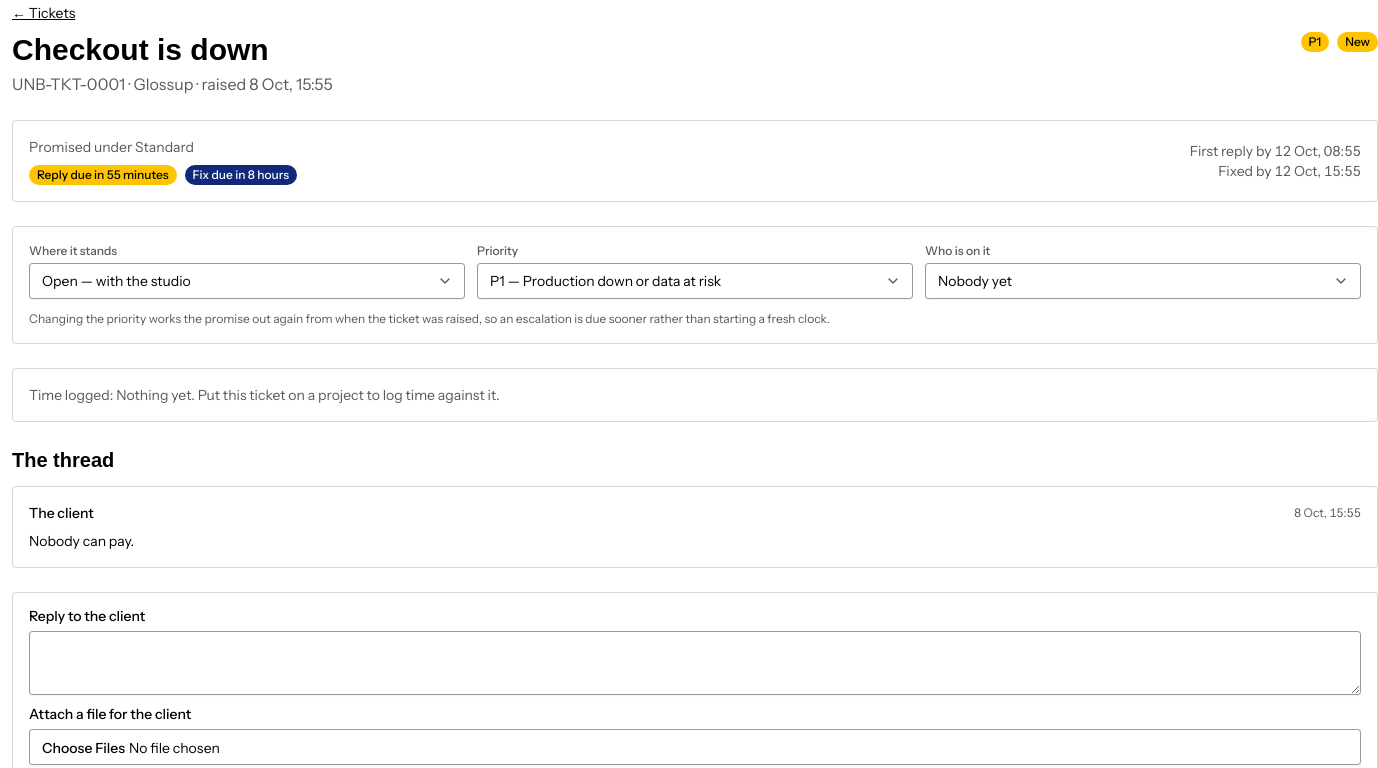
one ticket › shows the server’s reason when a change is refused
Select "Resolved" in the dropdown labelled "Where it stands": (247, 281) [29,263,465,299]
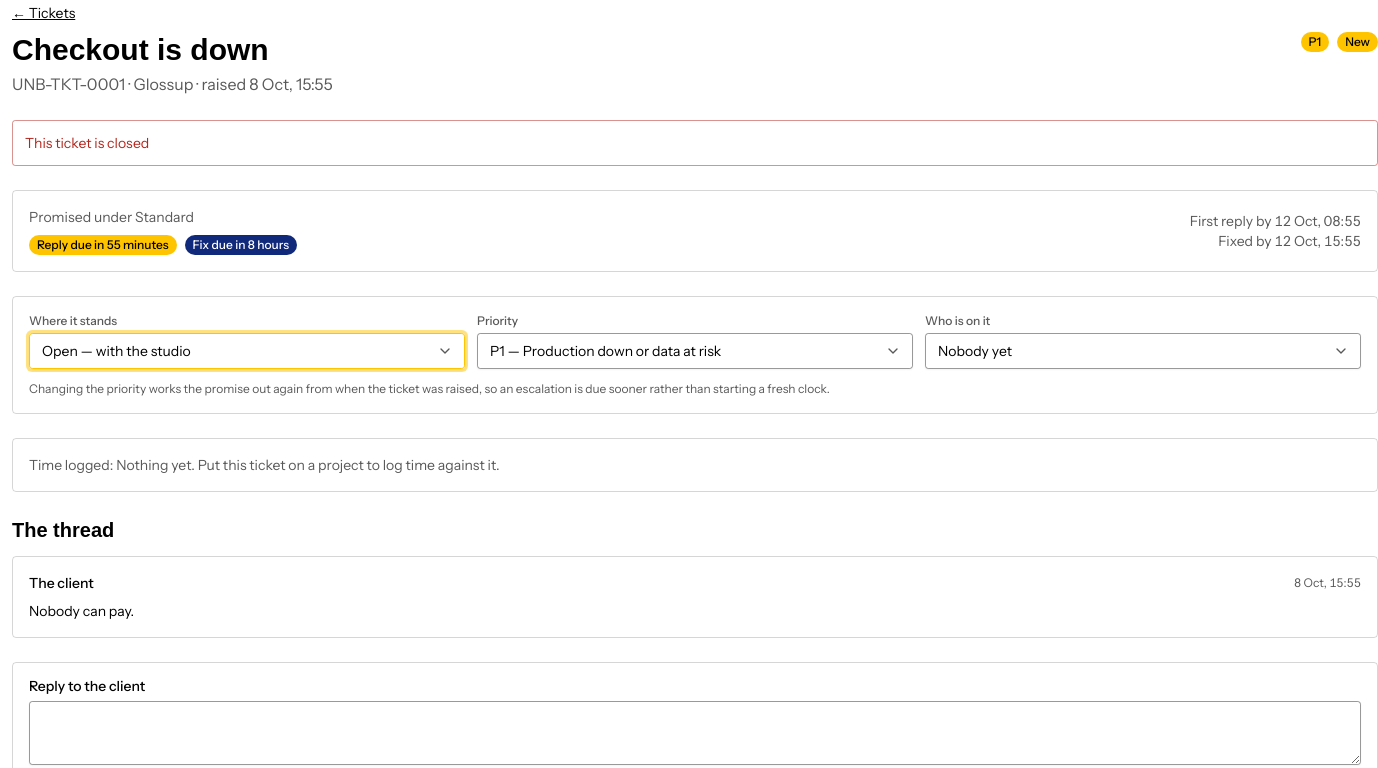
Check: the message reads "This ticket is closed", box [25,134,149,152]
